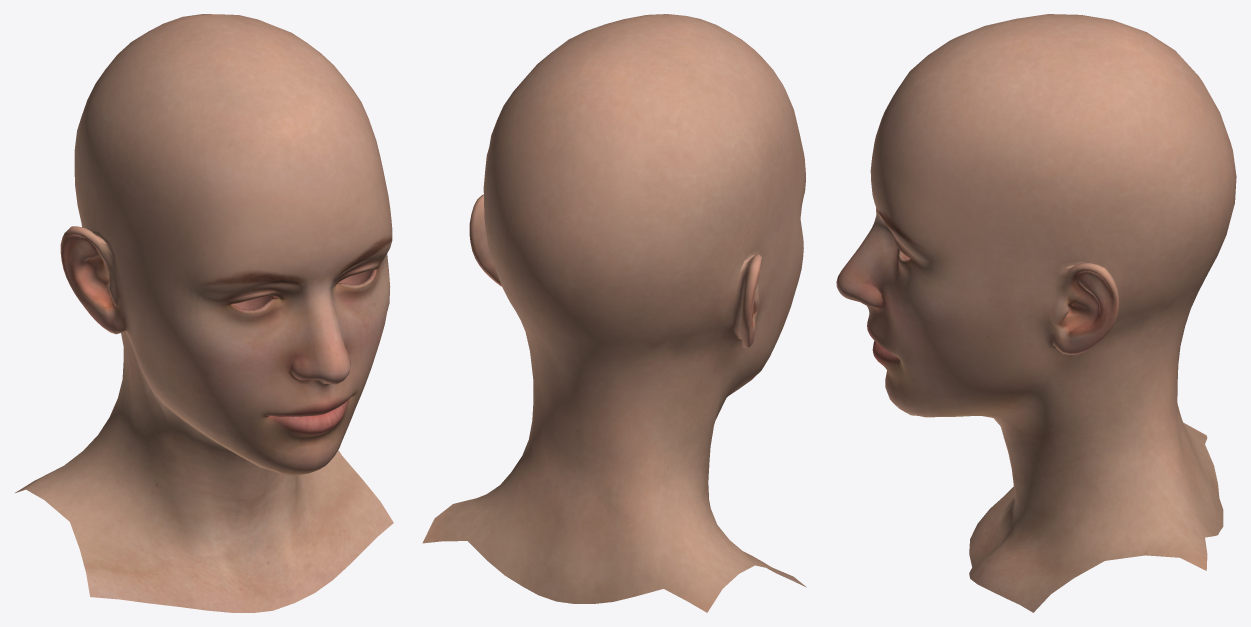
Rendered from CC_head.glb.
3 renders of one model, left to right at view 1: azimuth 30°, elevation 25°; view 2: azimuth 150°, elevation 25°; view 3: azimuth 270°, elevation 25°, orthographic. The views are drawn at different scales.
Parts seen in each view (by area): view 1: CC_Base_Body; view 2: CC_Base_Body; view 3: CC_Base_Body.
Part boxes in pixels (left/top/right/bottom): CC_Base_Body: left=15, top=14, right=393, bottom=612; CC_Base_Body: left=422, top=14, right=806, bottom=612; CC_Base_Body: left=836, top=14, right=1236, bottom=612.
Bounding box in the file's own units: 0.1836 × 0.3152 × 0.2115.
1 material, 1 textured.
